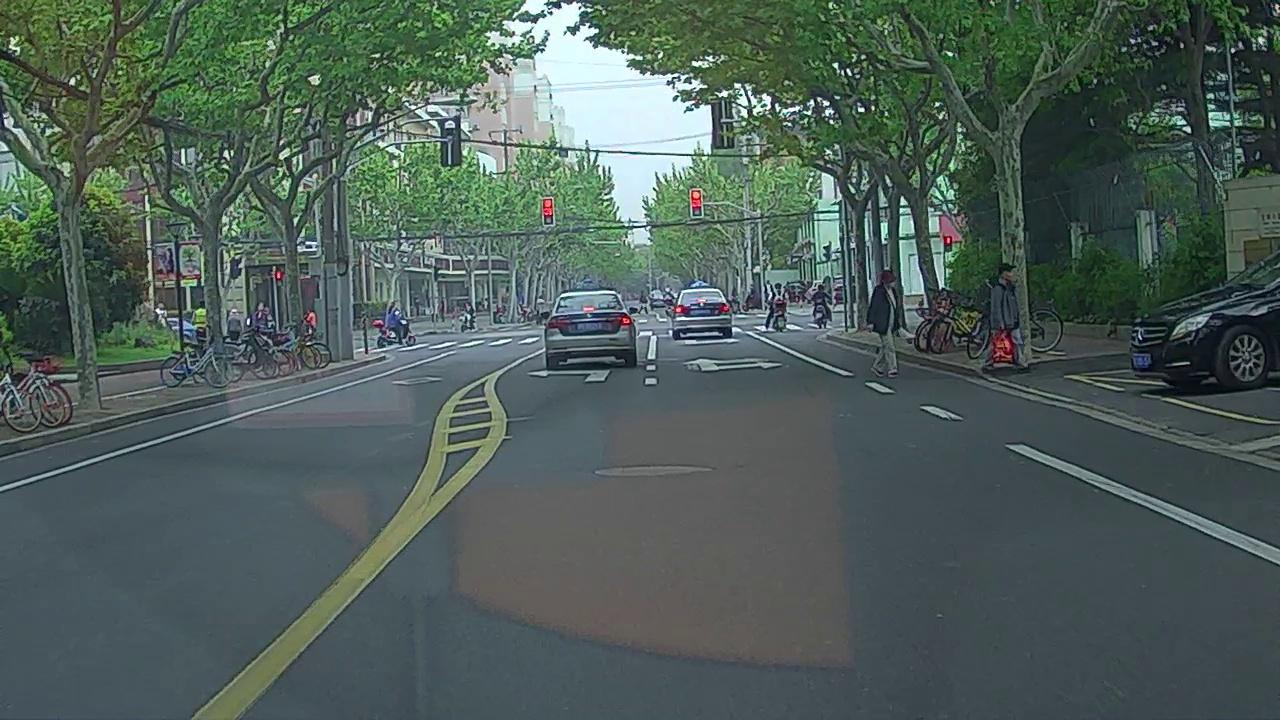traffic_light: (540, 198, 554, 224), (691, 189, 703, 218)
